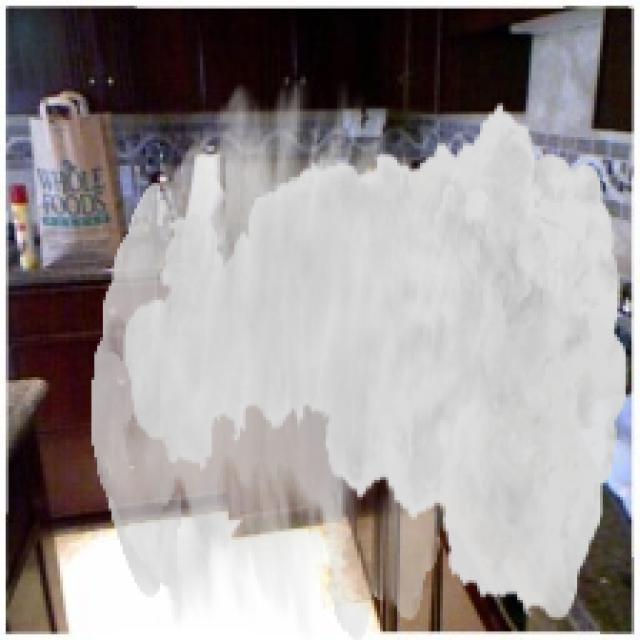Smoke: (91, 80, 632, 637)
